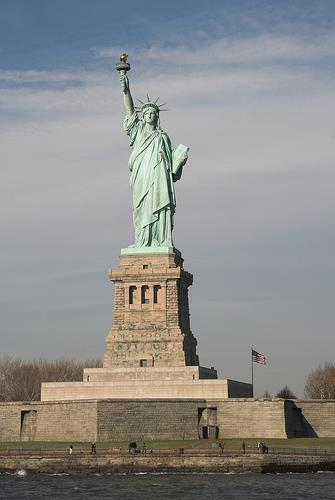Statue_of_Liberty: (105, 43, 191, 256)
